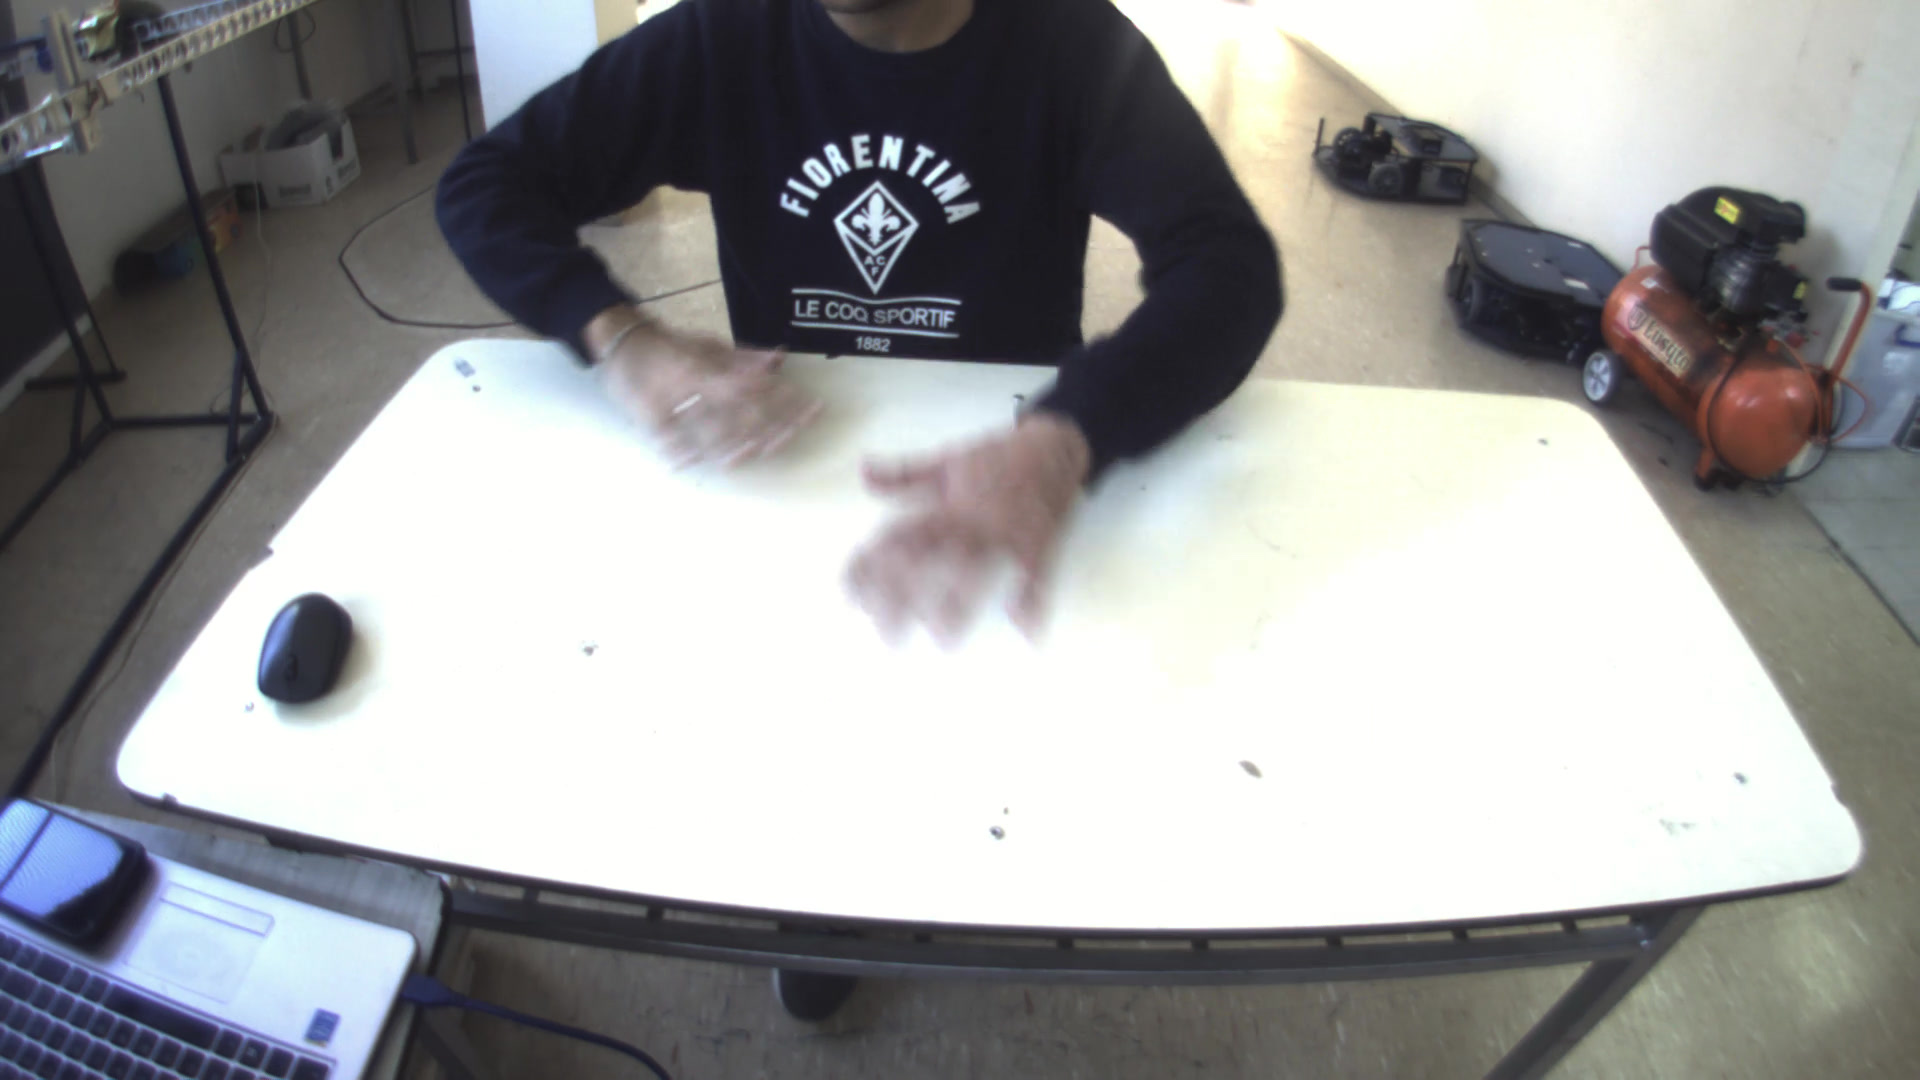hand: (851, 406, 1088, 645), (582, 294, 829, 473)
